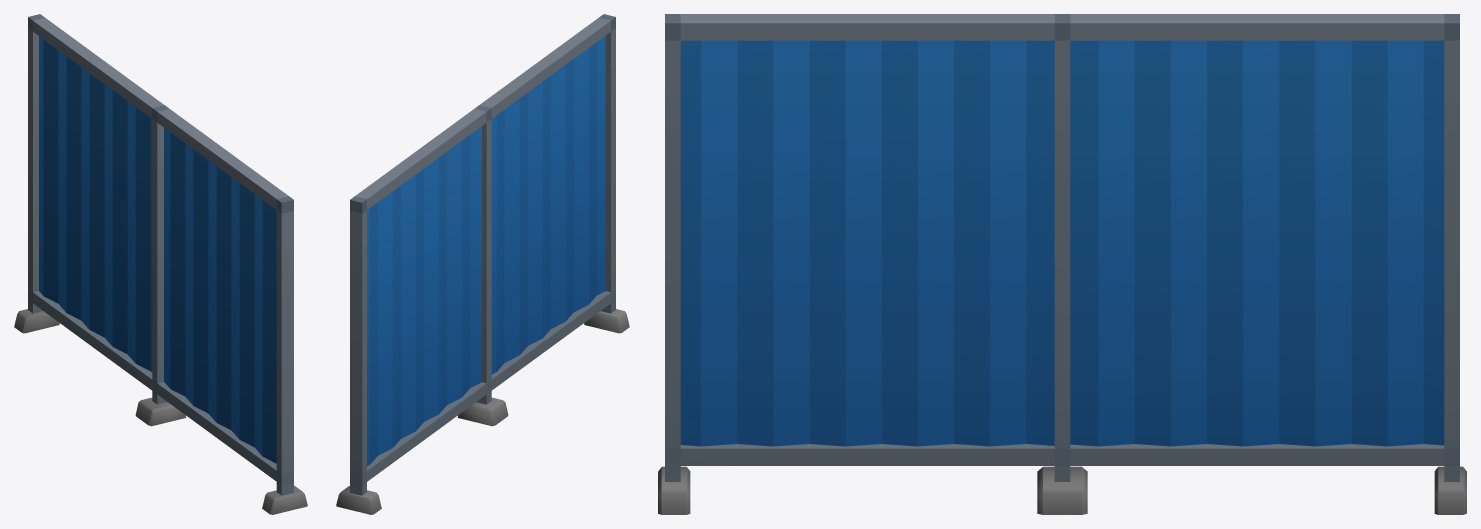
The model's file is Barier_1_1.fbx.
3 renders of one model, left to right at view 1: azimuth 30°, elevation 25°; view 2: azimuth 150°, elevation 25°; view 3: azimuth 270°, elevation 25°, orthographic. The views are drawn at different scales.
Visible parts, largest first — view 1: Barier_1_1; view 2: Barier_1_1; view 3: Barier_1_1.
Part boxes in pixels (x1,y1,x2,y2): Barier_1_1: (14, 14, 307, 514); Barier_1_1: (336, 14, 629, 514); Barier_1_1: (658, 14, 1466, 514).
Bounding box in the file's own units: 34.35 × 268 × 407.
